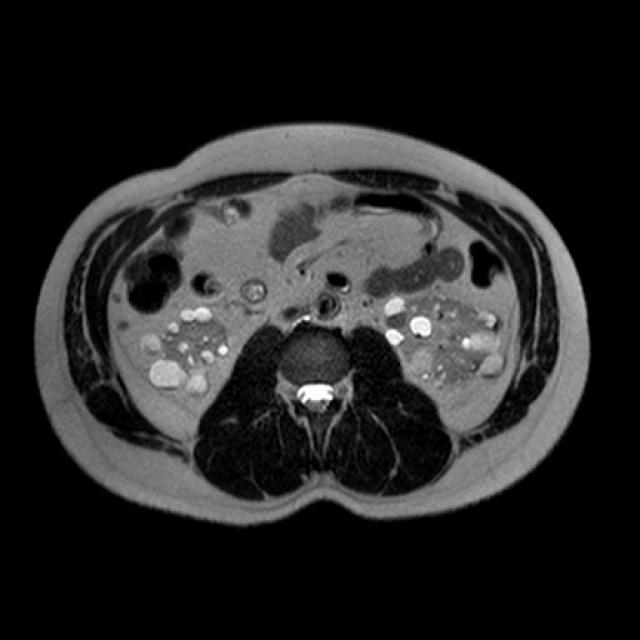sag: (138, 305, 229, 397)
sol: (383, 291, 506, 393)
